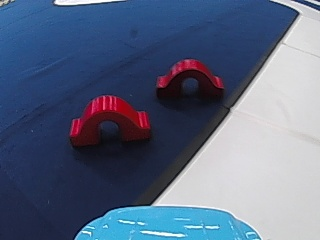bridge: (63, 89, 155, 148), (154, 54, 227, 102)
